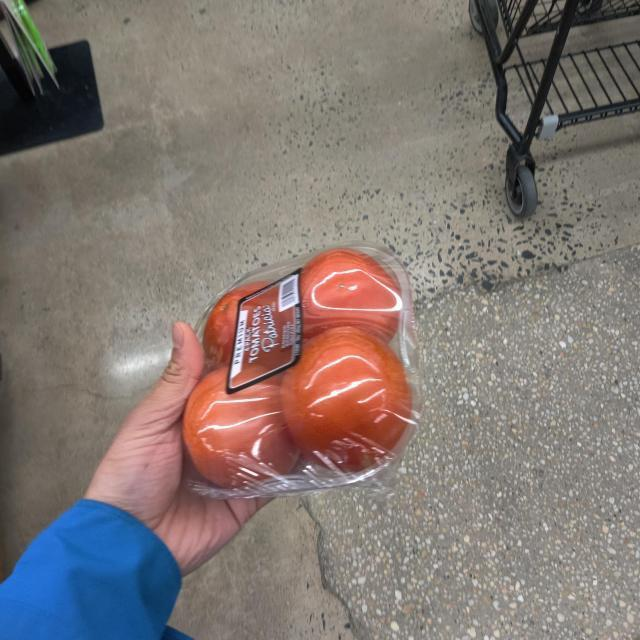Tomatoes: (176, 245, 412, 488)
